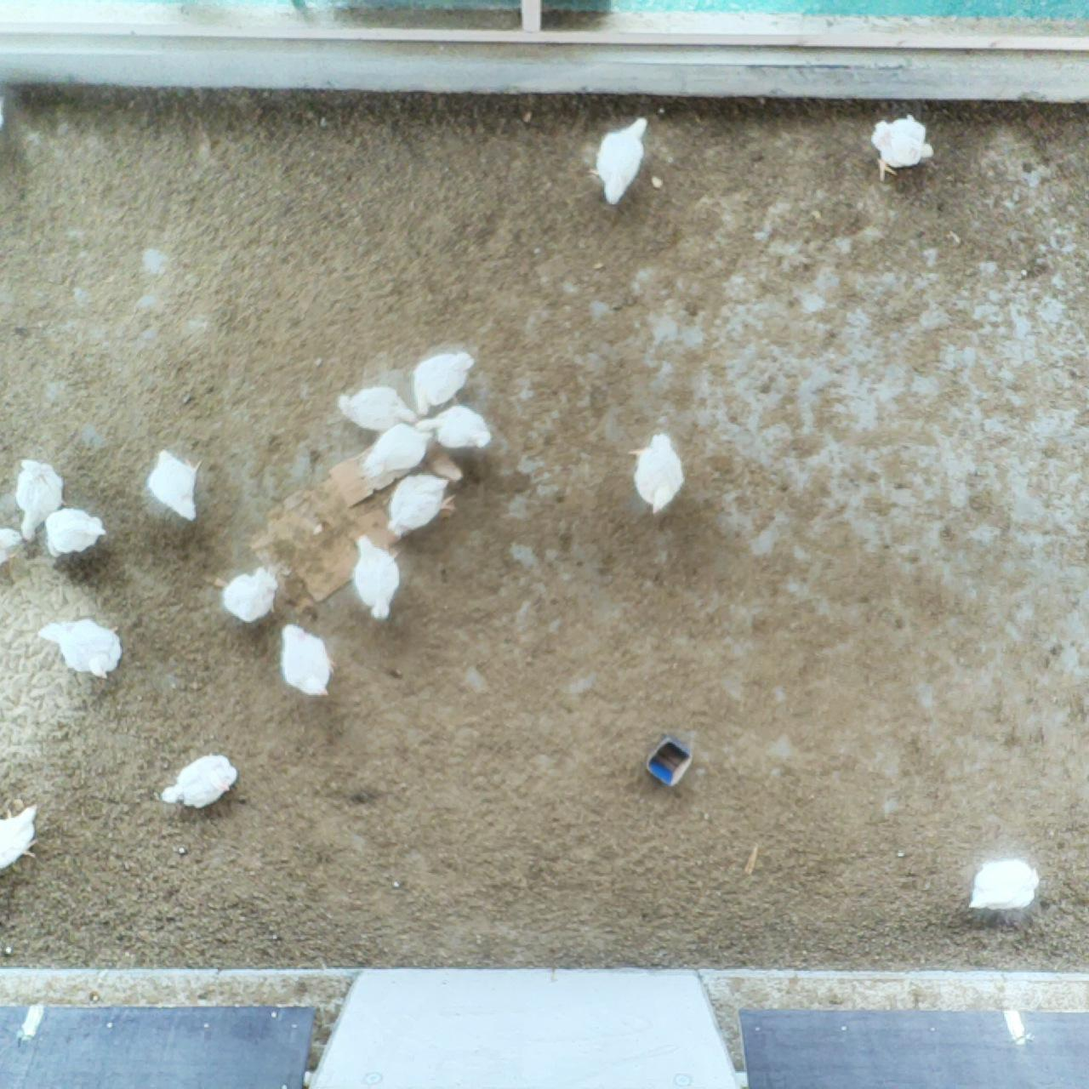chicken: (34, 612, 126, 687), (584, 114, 654, 208), (624, 427, 690, 518), (158, 745, 241, 816), (383, 470, 460, 543), (10, 453, 69, 548), (143, 445, 206, 529), (358, 420, 437, 486), (332, 382, 423, 438), (350, 529, 404, 623), (408, 348, 478, 420), (867, 110, 935, 184), (966, 852, 1042, 918), (277, 622, 339, 700), (413, 404, 496, 458), (215, 565, 285, 626), (40, 504, 110, 564), (0, 799, 48, 875), (0, 525, 24, 569)
